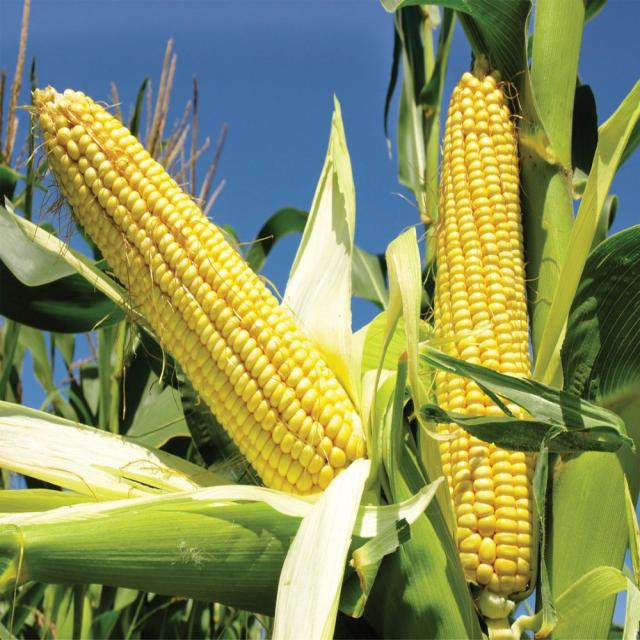corn: (18, 76, 367, 500), (420, 78, 541, 627)
